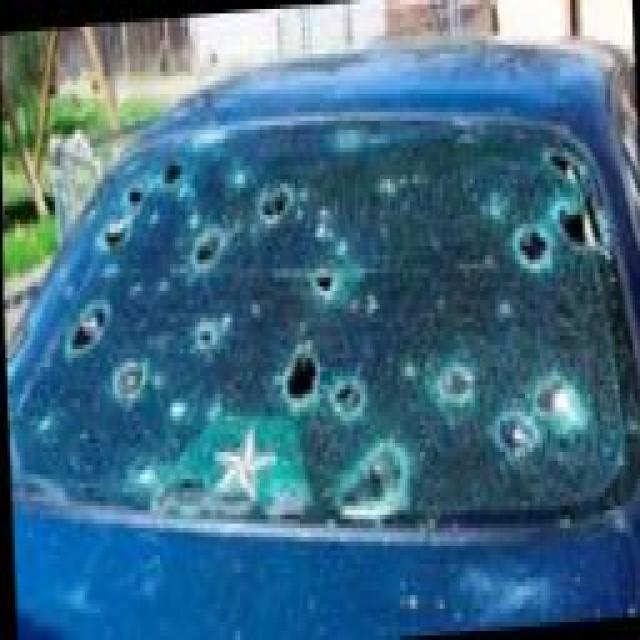replaceable: (38, 119, 624, 488)
